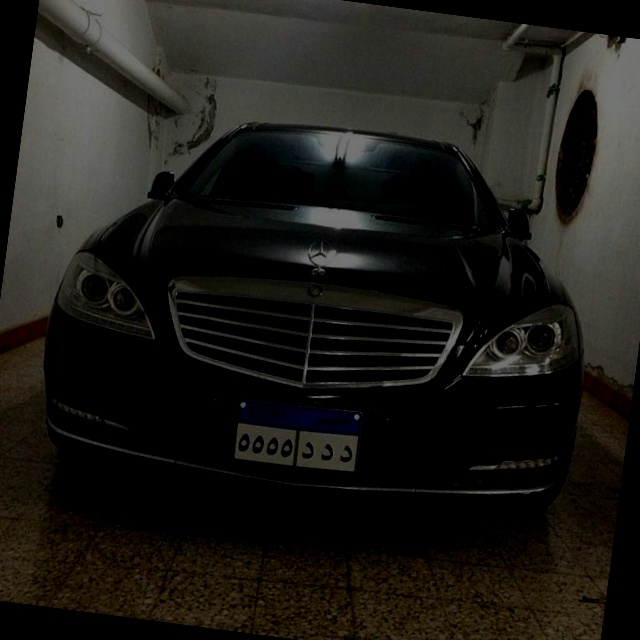License Plate: (225, 393, 370, 481)
